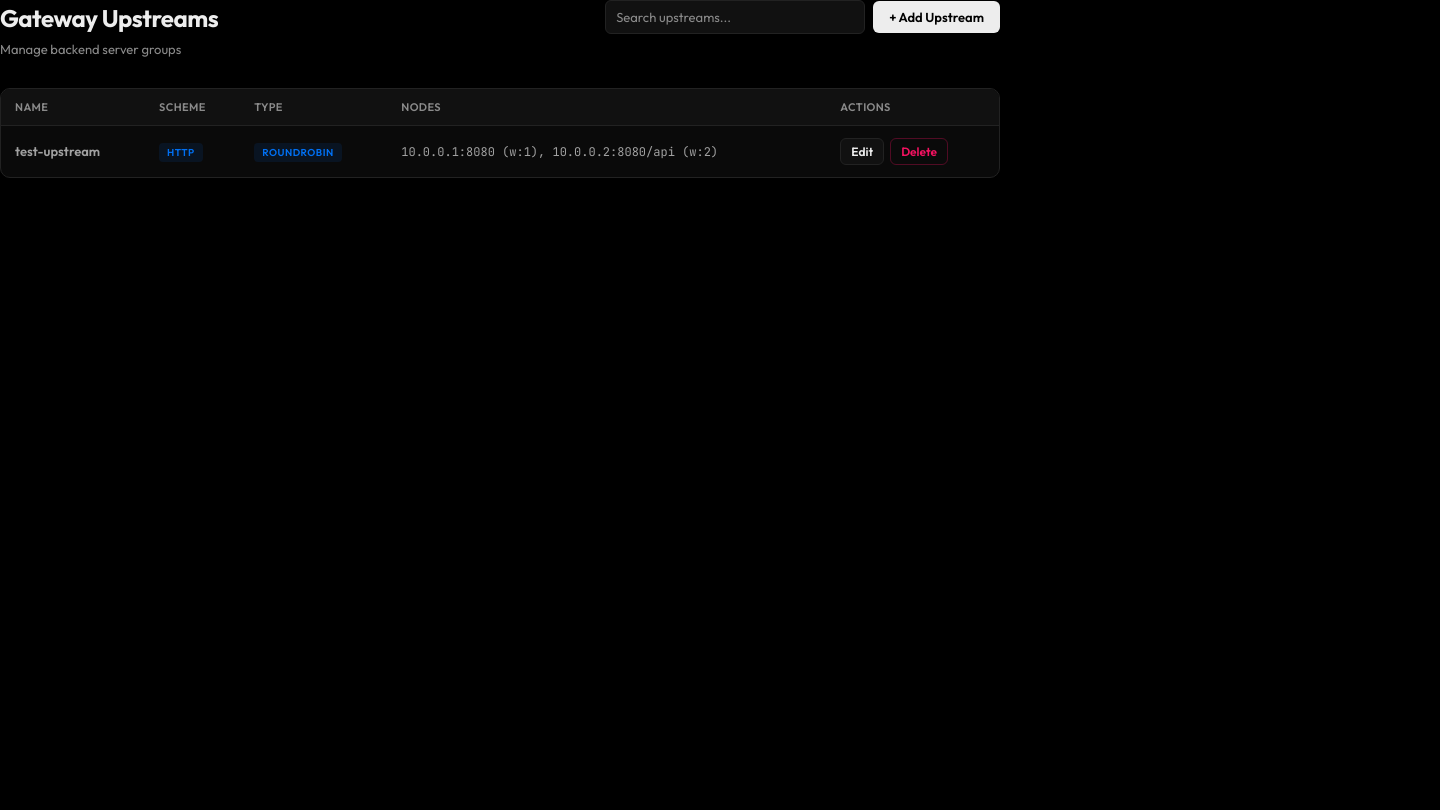
GatewayUpstreams › node path prefix › shows list-form prefixes in the table and the edit form
Expected: the text "10.0.0.1:8080 (w:1), 10.0.0.2:8080/api (w:2)" is shown, [387, 126, 826, 177]
Click the button with aria-label "Edit upstream test-upstream" at (862, 152), box [840, 138, 884, 165]
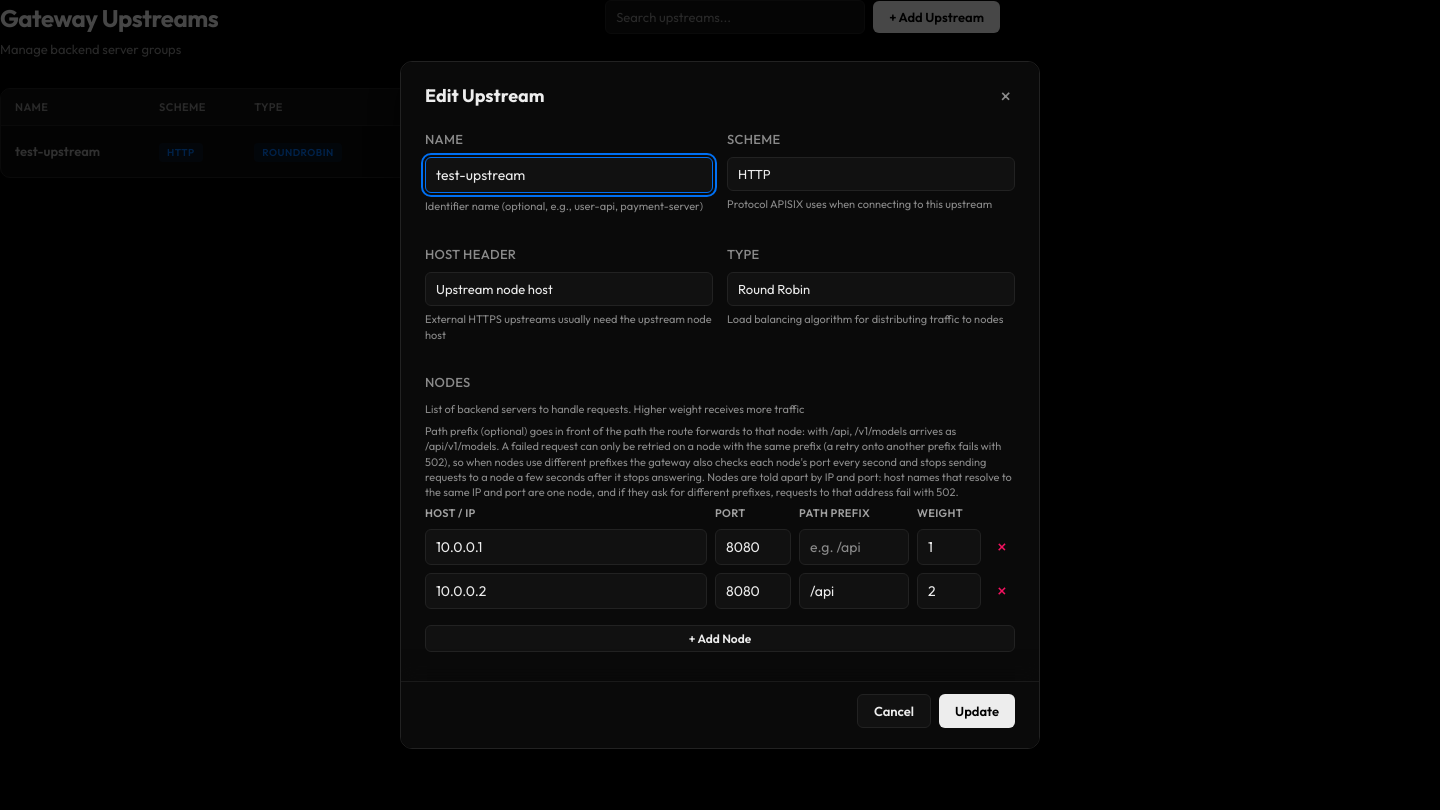
Expected: the field named "Node 1 host or IP" holds "10.0.0.1", [425, 529, 707, 565]
Expected: the field named "Node 1 path prefix" is empty, [799, 529, 909, 565]
Expected: the field named "Node 2 path prefix" holds "/api", [799, 573, 909, 609]
